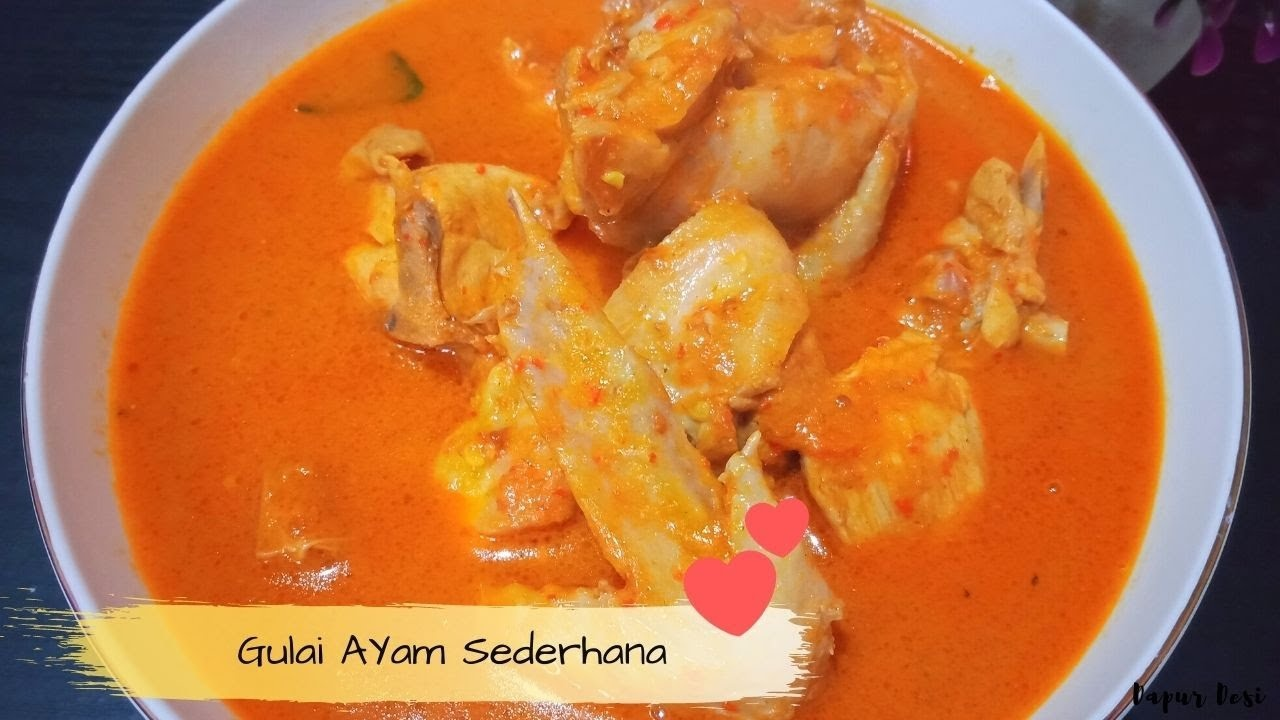gulai_ayam: (50, 11, 1163, 715)
